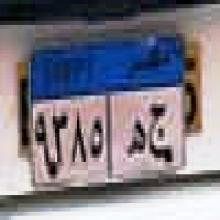2: (52, 109, 69, 156)
5: (90, 115, 104, 160)
8: (70, 107, 86, 165)
9: (32, 109, 50, 175)
haa: (128, 120, 145, 157)
jeem: (148, 100, 169, 156)
